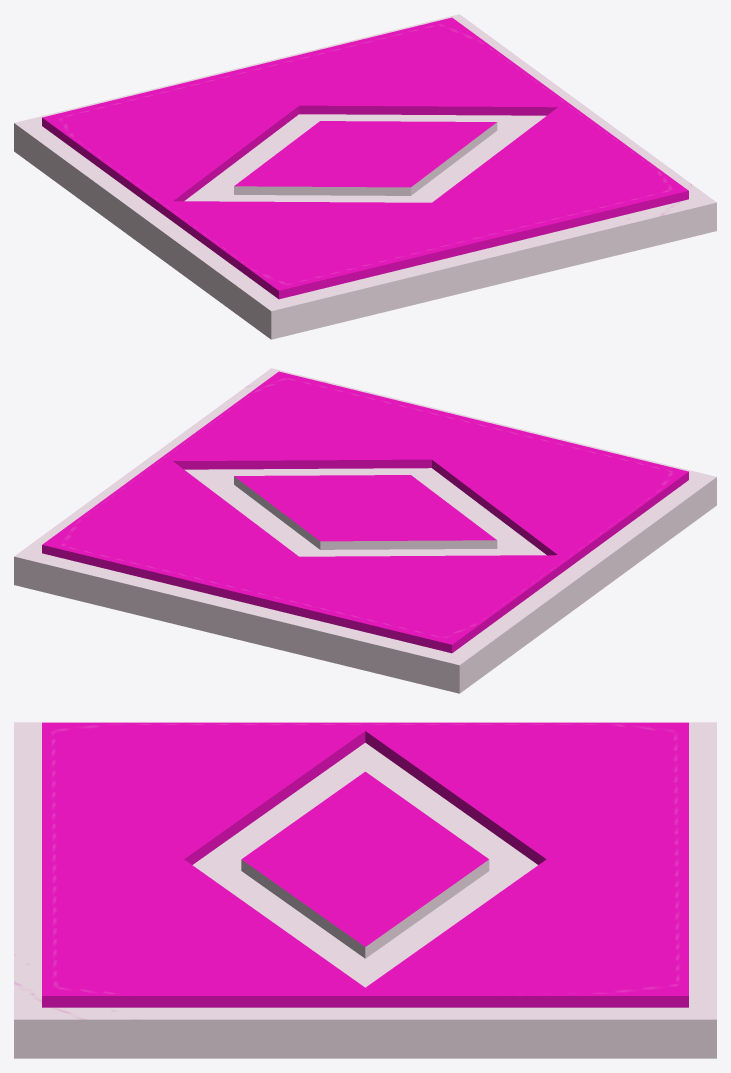
The model's file is Button_Magenta.fbx.
The picture shows the model from 3 angles, top to bottom: view 1: azimuth 30°, elevation 25°; view 2: azimuth 150°, elevation 25°; view 3: azimuth 270°, elevation 25°; orthographic projection. The views are drawn at different scales.
Visible parts, largest first — view 1: Box120; view 2: Box120; view 3: Box120.
Boxes of the visible parts, box(x1,y1,x2,y2) form: Box120: box(14, 14, 716, 339); Box120: box(14, 368, 716, 693); Box120: box(14, 722, 716, 1058).
Bounding box in the file's own units: 1 × 0.0795 × 1.
Materials: 1 (1 with a texture image).
